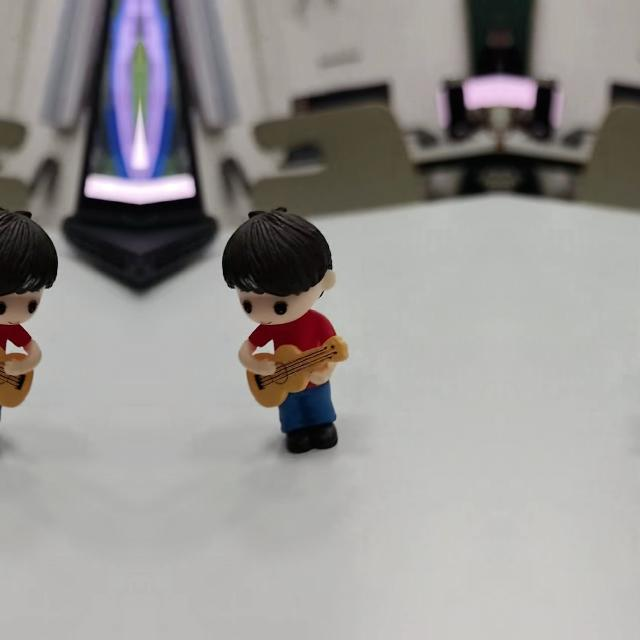man cloth: (248, 316, 336, 356), (0, 316, 32, 355)
man head: (220, 203, 336, 325), (0, 203, 59, 325)
trousers: (276, 386, 342, 456), (0, 386, 4, 455)
